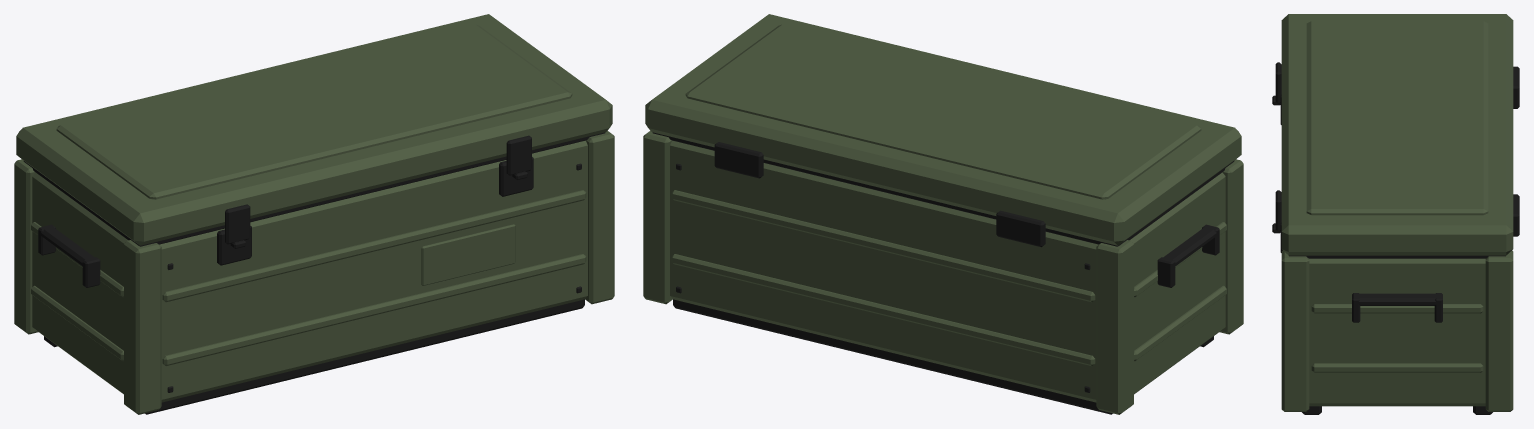
Rendered from SRZ_ArmyBox.fbx.
3 views of the same model, side by side, from view 1: azimuth 30°, elevation 25°; view 2: azimuth 150°, elevation 25°; view 3: azimuth 270°, elevation 25° (orthographic). The views are drawn at different scales.
Parts seen in each view (by area): view 1: ArmyBox; view 2: ArmyBox; view 3: ArmyBox.
Boxes of the visible parts, bbox=[...] form: ArmyBox: bbox=[14, 14, 614, 414]; ArmyBox: bbox=[643, 14, 1243, 414]; ArmyBox: bbox=[1272, 14, 1519, 414].
Size of what is drawn, in the model's own units: 108 by 44 by 49.
